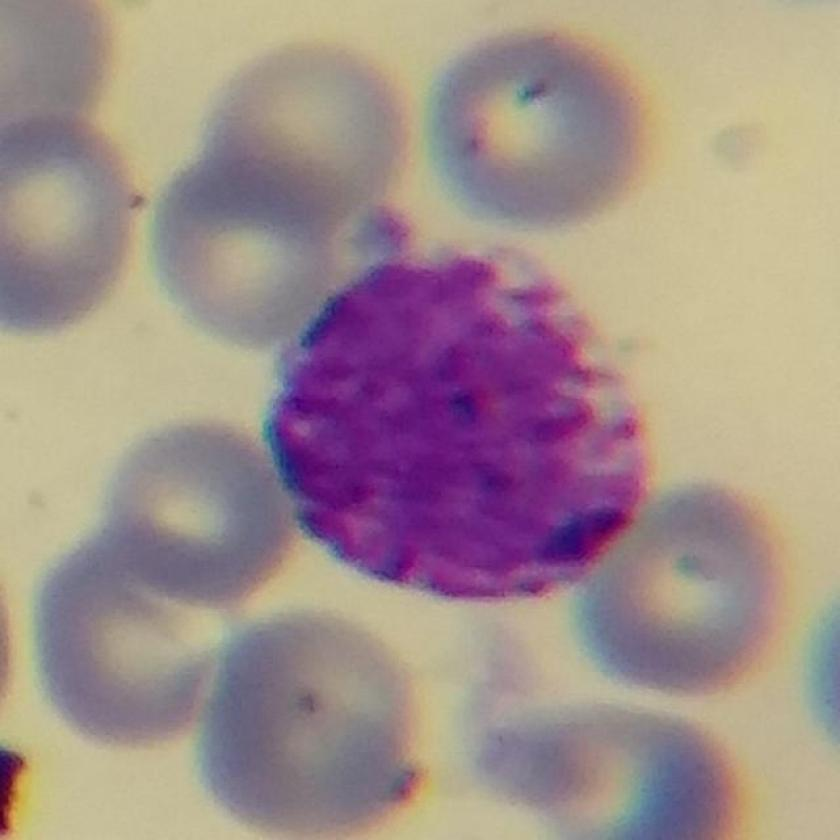basophil: (265, 245, 653, 605)
